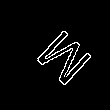M_SW: (21, 20, 89, 90)
